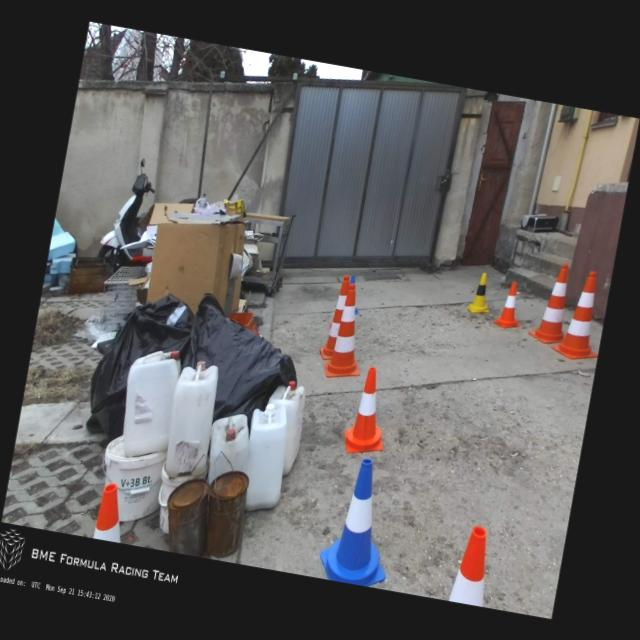blue_cone: (315, 454, 404, 588), (344, 275, 364, 313)
large_orange_cone: (550, 266, 612, 362), (322, 281, 374, 383), (526, 260, 576, 346), (318, 272, 350, 362)
orange_cone: (340, 365, 397, 459), (448, 524, 495, 606), (94, 483, 130, 542), (492, 278, 528, 332)
yellow_cone: (466, 270, 495, 316)
